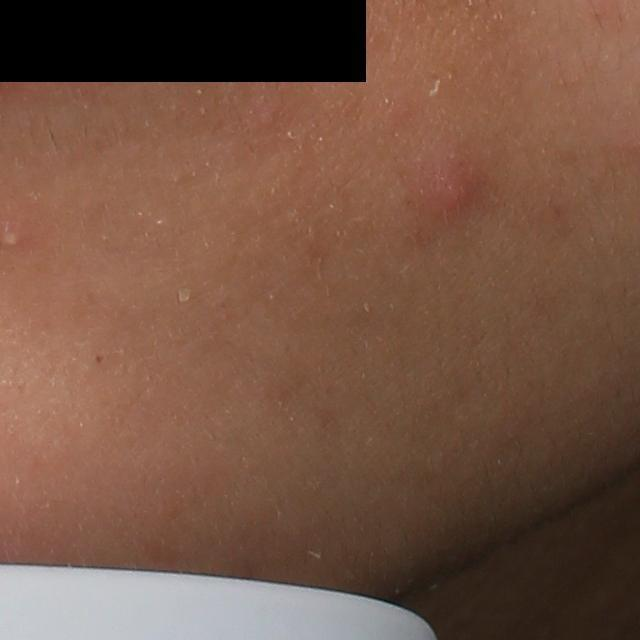papule: (418, 163, 478, 213)
